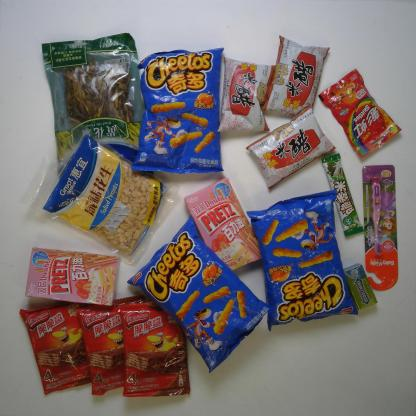Candy: (319, 69, 401, 158)
Chocolate: (322, 149, 364, 239)
Dessert: (187, 177, 261, 275), (117, 298, 189, 397), (21, 305, 94, 394), (82, 294, 145, 397), (25, 249, 119, 308)
Dried Food: (43, 33, 145, 173)
Dried Fruit: (29, 129, 174, 260)
Gum: (344, 260, 378, 312)
Personal Hygiene: (362, 163, 400, 292)
Puffed Food: (128, 215, 267, 373), (248, 191, 357, 328), (132, 48, 223, 174)
Seasoner: (245, 106, 336, 189), (266, 33, 329, 119), (220, 53, 274, 135)
